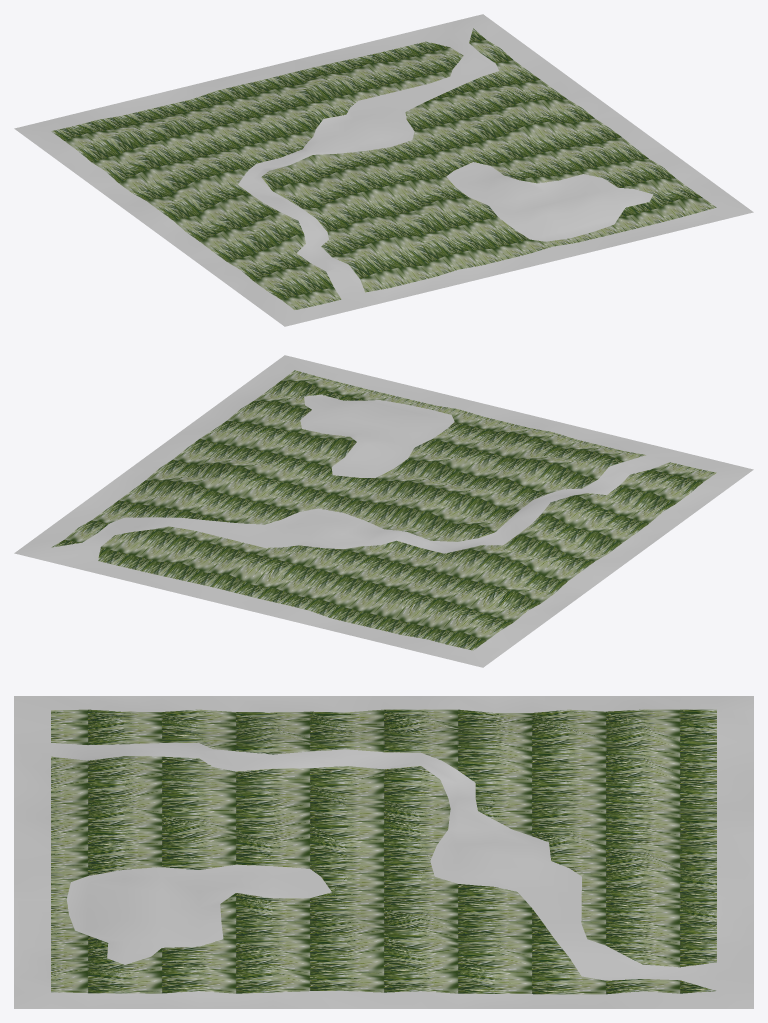
The model's file is SM_Grounds_02.FBX.
3 views of the same model, one above another, from view 1: azimuth 30°, elevation 25°; view 2: azimuth 150°, elevation 25°; view 3: azimuth 270°, elevation 25° (orthographic). The views are drawn at different scales.
Parts seen in each view (by area): view 1: SM_Grounds_02_LOD0; view 2: SM_Grounds_02_LOD0; view 3: SM_Grounds_02_LOD0.
Part boxes in pixels (x1,y1,x2,y2): SM_Grounds_02_LOD0: [14, 14, 753, 326]; SM_Grounds_02_LOD0: [14, 355, 753, 667]; SM_Grounds_02_LOD0: [14, 696, 753, 1008].
Size of what is drawn, in the model's own units: 50.21 by 1.13 by 50.21.
